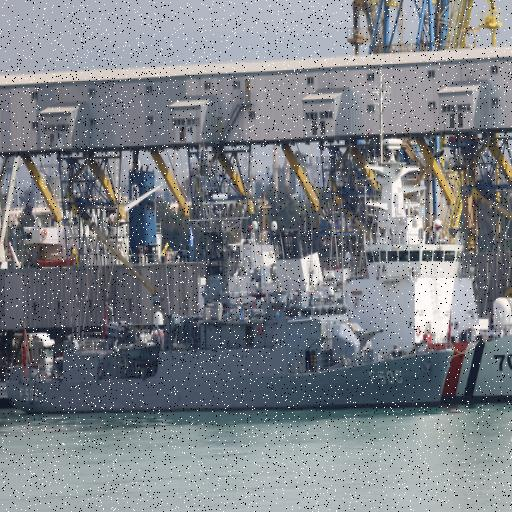Fragata: (6, 220, 455, 421)
